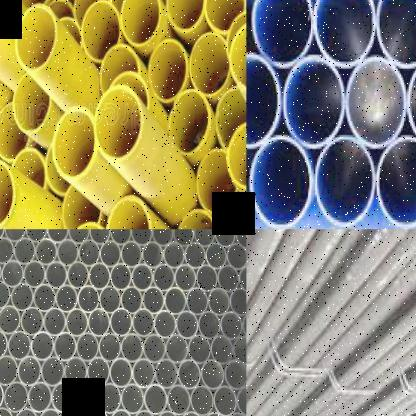pipe: (283, 56, 344, 149), (250, 135, 310, 228), (346, 57, 406, 148), (315, 136, 375, 226), (314, 0, 376, 69), (251, 0, 313, 68), (95, 84, 143, 161), (376, 136, 416, 227), (52, 106, 97, 180), (246, 53, 279, 148), (169, 89, 212, 157), (15, 4, 58, 72), (375, 0, 416, 67), (197, 150, 237, 216), (189, 32, 230, 96), (148, 39, 188, 102), (82, 1, 122, 63), (13, 73, 51, 133), (100, 44, 140, 94), (216, 87, 246, 151), (119, 0, 160, 45), (61, 184, 101, 229), (0, 101, 30, 161), (106, 196, 151, 229), (203, 0, 246, 34), (226, 120, 247, 189), (165, 0, 206, 33), (213, 194, 246, 229), (230, 20, 246, 92), (0, 159, 15, 229), (72, 0, 109, 28), (406, 55, 416, 148), (176, 209, 218, 229), (4, 381, 29, 414), (50, 382, 76, 413), (63, 356, 88, 388), (166, 383, 190, 416), (7, 330, 32, 361), (200, 359, 225, 390), (98, 383, 122, 415), (190, 384, 214, 416), (121, 383, 145, 415), (132, 357, 156, 389), (213, 384, 237, 416), (98, 332, 122, 363), (75, 383, 99, 414), (41, 356, 65, 387), (28, 382, 52, 413), (178, 359, 202, 390), (144, 384, 168, 415), (155, 358, 178, 390), (18, 356, 42, 386), (76, 332, 100, 362), (10, 282, 34, 312), (143, 333, 166, 364), (87, 357, 110, 388), (110, 357, 132, 389), (20, 307, 44, 336), (121, 333, 144, 363), (53, 332, 76, 362), (176, 310, 199, 340), (132, 308, 155, 338), (77, 284, 100, 314), (210, 335, 233, 365), (224, 359, 246, 390), (120, 286, 144, 314), (31, 332, 54, 361), (1, 259, 24, 288), (174, 263, 197, 292), (188, 335, 211, 364), (198, 311, 221, 340), (220, 311, 243, 340), (165, 335, 188, 364), (154, 309, 176, 339), (44, 307, 66, 337), (110, 308, 132, 338), (88, 308, 110, 338), (208, 287, 230, 317), (98, 286, 122, 313), (33, 284, 56, 312), (141, 241, 164, 269), (66, 308, 88, 337), (153, 263, 175, 292), (186, 287, 208, 316), (110, 262, 132, 291), (68, 261, 90, 290), (132, 263, 154, 292), (13, 238, 36, 265), (142, 287, 165, 314), (217, 265, 239, 293), (24, 260, 46, 288), (196, 264, 218, 292), (36, 238, 58, 266), (45, 261, 67, 289), (164, 287, 186, 315), (100, 240, 122, 268), (0, 305, 21, 334), (56, 284, 77, 313), (184, 242, 206, 269), (162, 242, 184, 269), (121, 241, 143, 268), (89, 262, 110, 290), (57, 239, 78, 267), (226, 243, 247, 270), (79, 240, 100, 267), (206, 242, 226, 270), (0, 355, 18, 386), (109, 0, 144, 13), (232, 335, 247, 365), (230, 288, 246, 316), (0, 237, 14, 265), (214, 230, 235, 248), (152, 230, 174, 246), (194, 230, 215, 246), (110, 230, 131, 246), (173, 230, 194, 246), (132, 230, 152, 246), (236, 385, 246, 416), (0, 282, 11, 310), (46, 230, 68, 244), (69, 230, 90, 244), (89, 230, 110, 244), (25, 230, 48, 242), (4, 230, 25, 242), (0, 329, 8, 360), (238, 265, 246, 293), (14, 408, 40, 416), (236, 230, 247, 248), (38, 408, 62, 416), (62, 408, 86, 416), (86, 409, 110, 416), (109, 409, 133, 416), (132, 409, 156, 416), (0, 381, 5, 412), (242, 311, 247, 340), (156, 410, 180, 416), (0, 407, 14, 416), (180, 411, 204, 416), (203, 412, 227, 416)
